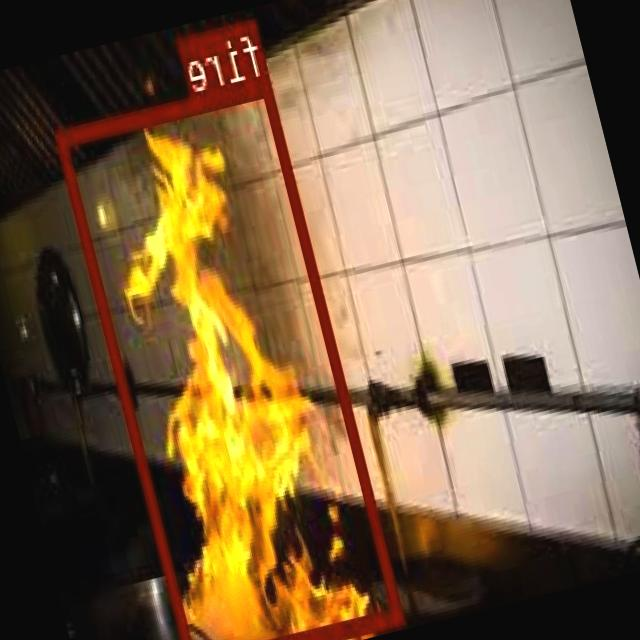fire: (56, 75, 405, 640)
